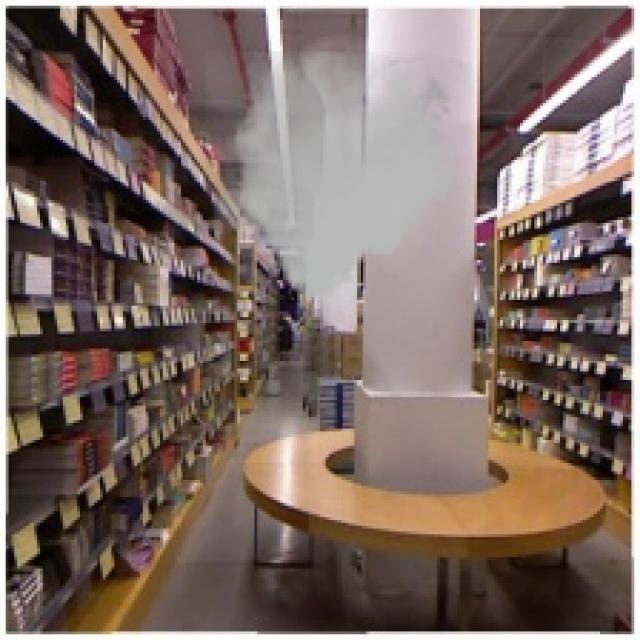Smoke: (205, 51, 460, 300)
